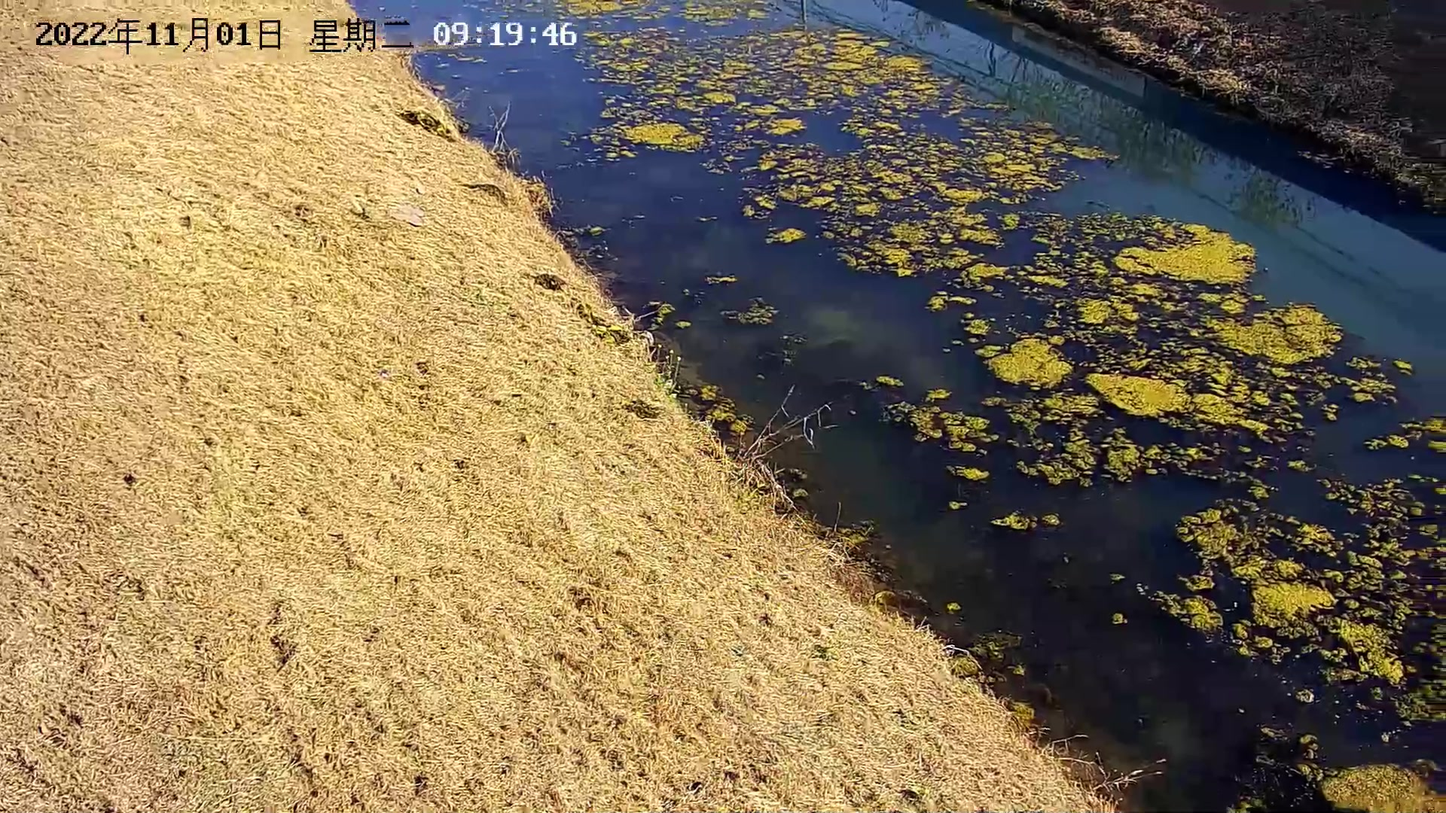floater: (494, 2, 1121, 282), (935, 221, 1446, 482), (1136, 486, 1446, 757), (865, 378, 991, 478), (1322, 767, 1446, 813), (696, 386, 751, 448), (423, 23, 485, 57), (721, 300, 778, 327), (991, 509, 1060, 531), (645, 300, 691, 330)
